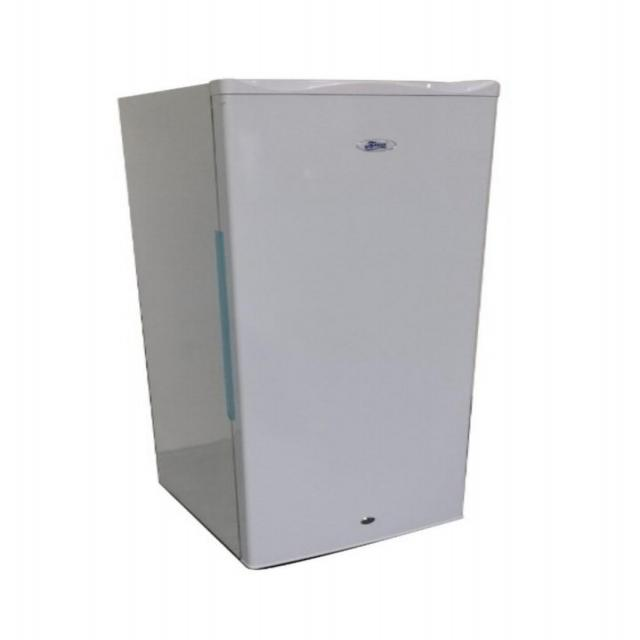refrigerator: (205, 79, 497, 565)
